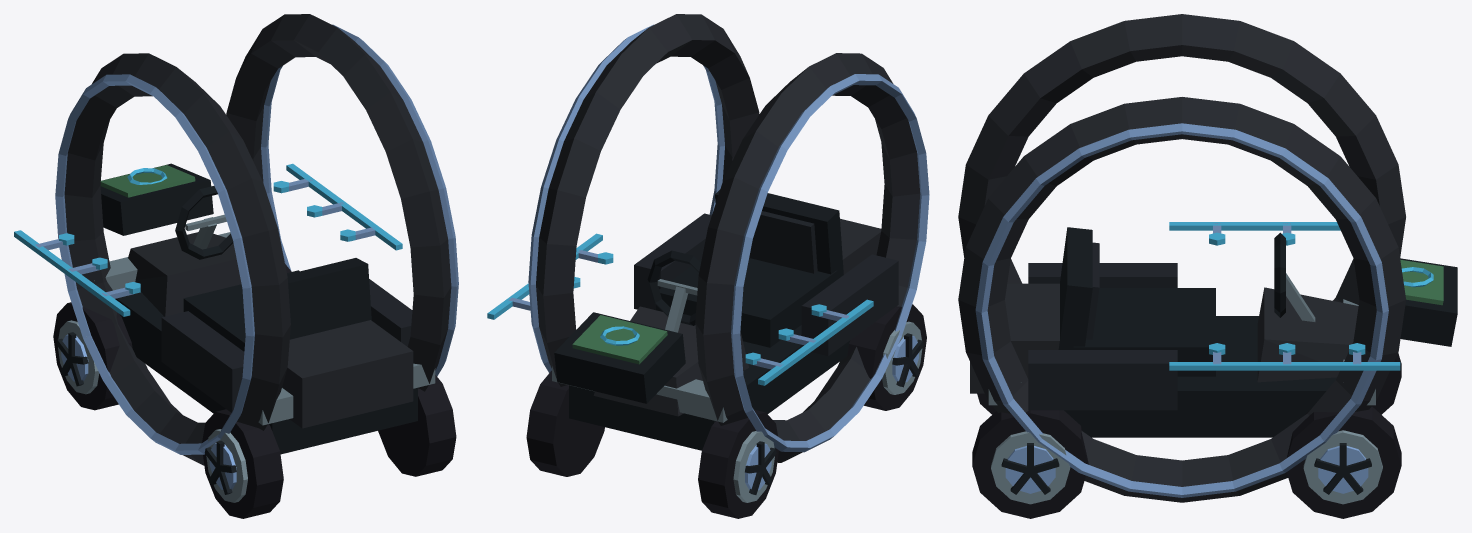
Rendered from kart.glb.
The picture shows the model from 3 angles, left to right: view 1: azimuth 30°, elevation 25°; view 2: azimuth 150°, elevation 25°; view 3: azimuth 270°, elevation 25°; orthographic projection. The views are drawn at different scales.
Parts seen in each view (by area): view 1: identity-motorbike-gantz-cycle-open-monowheel-hoop, identity-motorbike-driver-cockpit, wheel-rear-left, identity-motorbike-motif-scanner, wheel-front-left, identity-motorbike-motif-circuit, wheel-rear-right; view 2: identity-motorbike-gantz-cycle-open-monowheel-hoop, identity-motorbike-driver-cockpit, identity-motorbike-motif-scanner, wheel-front-left, wheel-front-right, wheel-rear-left, identity-motorbike-motif-circuit; view 3: identity-motorbike-gantz-cycle-open-monowheel-hoop, identity-motorbike-driver-cockpit, wheel-rear-right, wheel-front-right, identity-motorbike-motif-circuit, identity-motorbike-motif-scanner, wheel-front-left.
Boxes of the visible parts, <box> form: identity-motorbike-gantz-cycle-open-monowheel-hoop: <box>55,14,458,465</box>; identity-motorbike-driver-cockpit: <box>175,186,371,351</box>; wheel-rear-left: <box>202,409,283,518</box>; identity-motorbike-motif-scanner: <box>100,163,213,235</box>; wheel-front-left: <box>53,302,132,410</box>; identity-motorbike-motif-circuit: <box>14,163,402,316</box>; wheel-rear-right: <box>378,375,456,476</box>; identity-motorbike-gantz-cycle-open-monowheel-hoop: <box>528,14,929,462</box>; identity-motorbike-driver-cockpit: <box>647,189,843,347</box>; identity-motorbike-motif-scanner: <box>554,312,685,403</box>; wheel-front-left: <box>698,409,778,518</box>; wheel-front-right: <box>526,370,604,476</box>; wheel-rear-left: <box>847,304,926,410</box>; identity-motorbike-motif-circuit: <box>487,233,873,385</box>; identity-motorbike-gantz-cycle-open-monowheel-hoop: <box>958,14,1405,502</box>; identity-motorbike-driver-cockpit: <box>1058,227,1315,376</box>; wheel-rear-right: <box>972,410,1088,518</box>; wheel-front-right: <box>1286,406,1401,518</box>; identity-motorbike-motif-circuit: <box>1169,222,1400,370</box>; identity-motorbike-motif-scanner: <box>1400,258,1457,346</box>; wheel-front-left: <box>1372,353,1401,414</box>.
Bounding box in the file's own units: 1.46 × 1.95 × 2.14.
